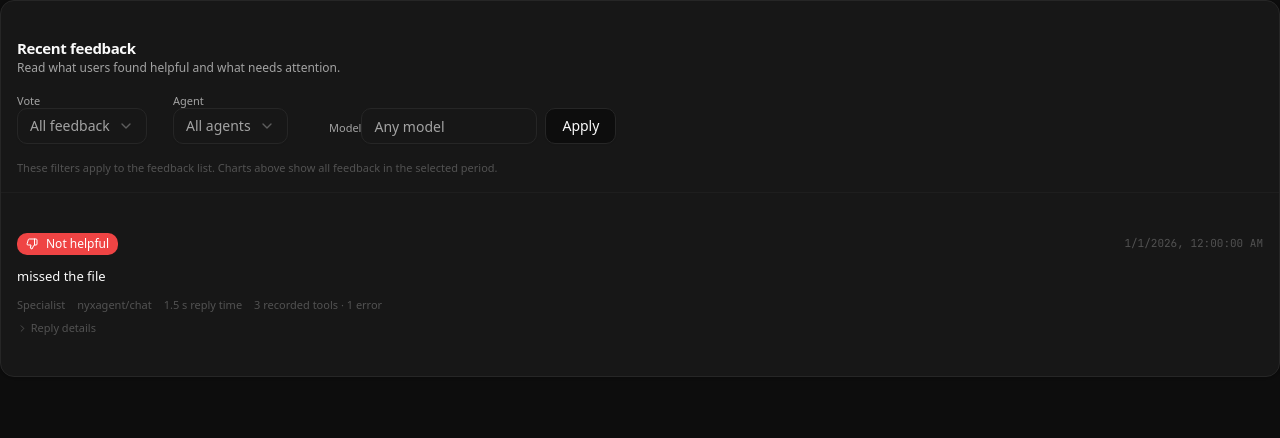
Scenario: AssistantFeedbackPanel › shows metadata without claiming failed replies can be rated
expect the text "missed the file" is shown: met, box [17,267,106,285]
expect the text "1.5 s reply time" is shown: met, box [164,297,242,312]
Click the heading "Reply details": (56, 328) [17,320,96,336]
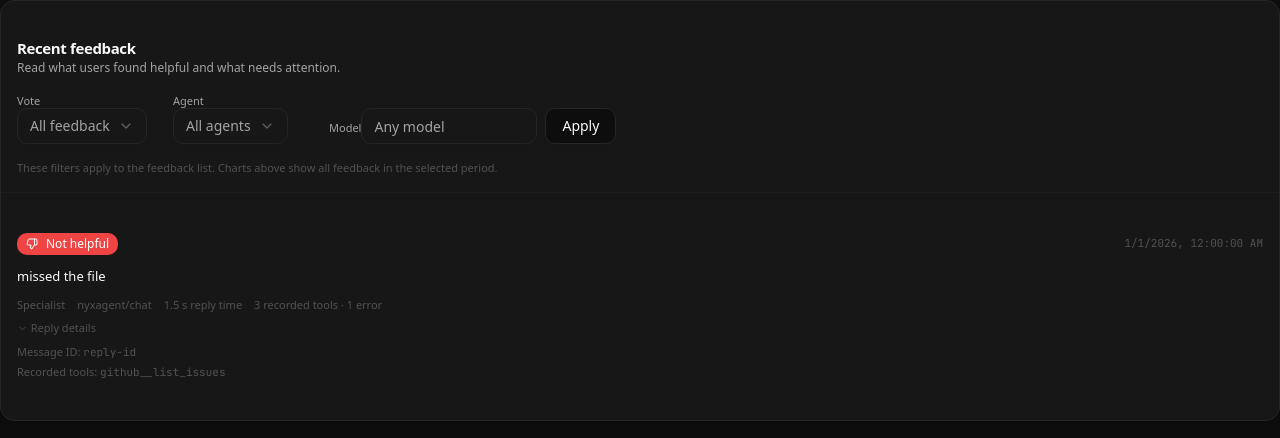
expect the text "github__list_issues" is shown: met, box [100,365,226,379]
